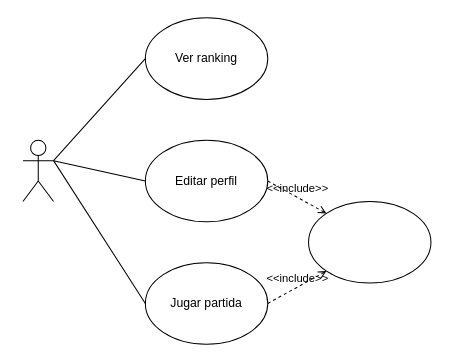
Image size: 449x362. Some labels were removed from this diagram. The centre of each missing label's shape, as x and y in pixels:
Identificarse (login): (x=369, y=241)
Usuario: (x=38, y=170)
